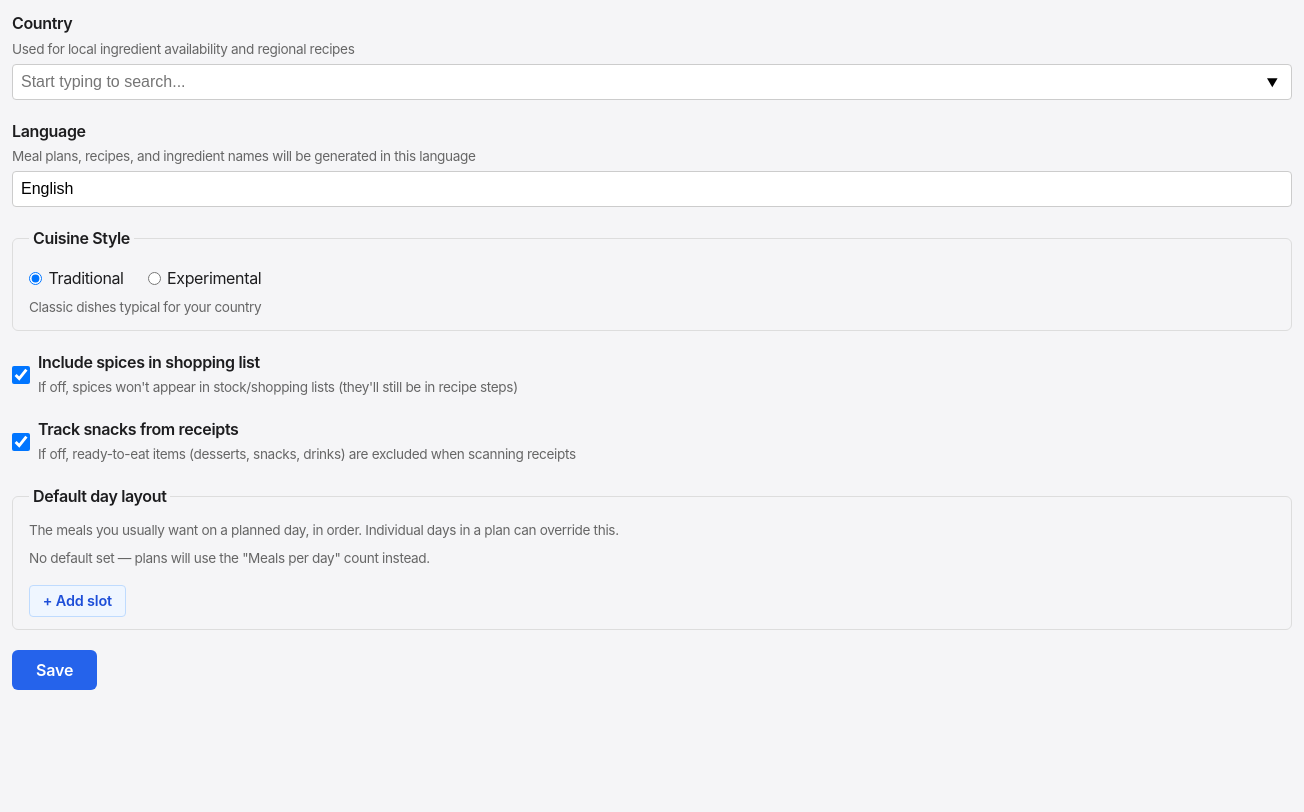
Test case: PreferencesForm › Tab canonicalizes case (italy → Italy)
Click the field with placeholder "Start typing to search...". click: click(652, 82)
box: [12, 64, 1292, 100]
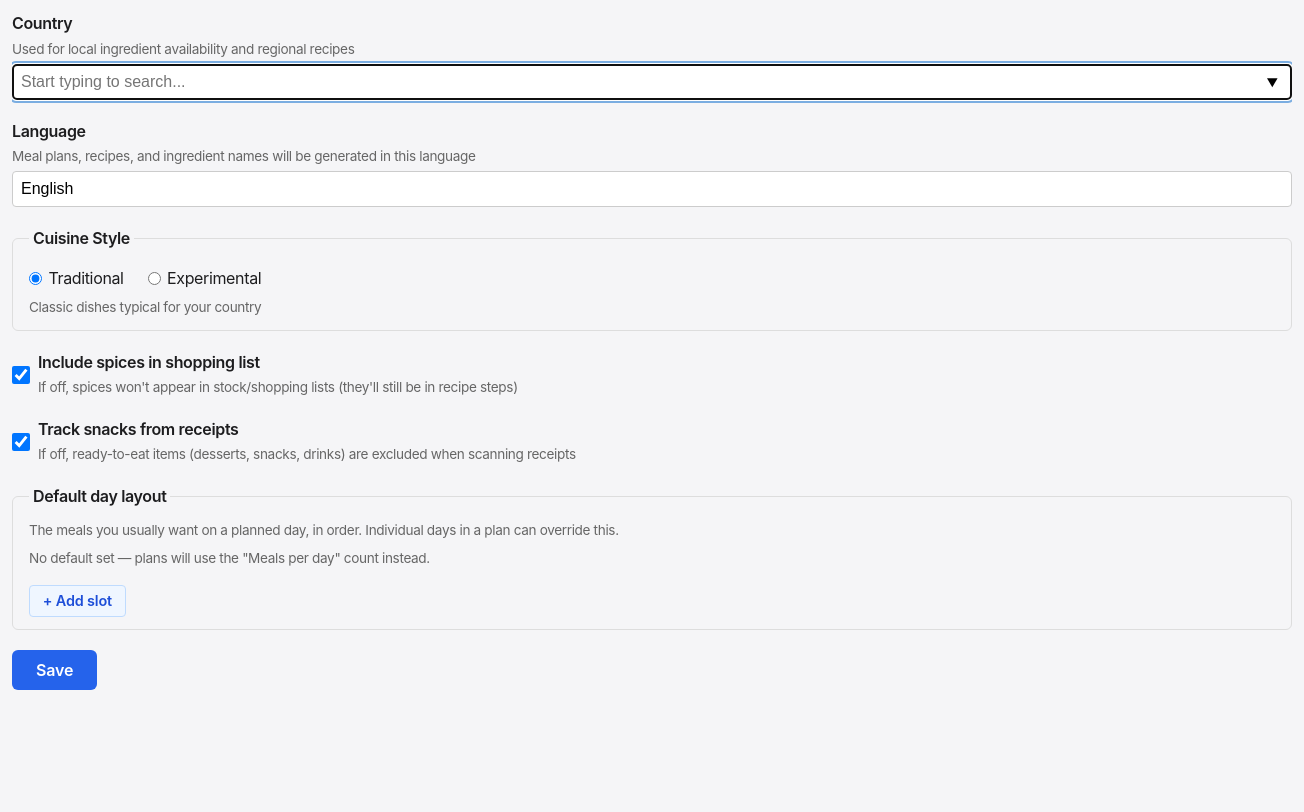
Type keys "italy"
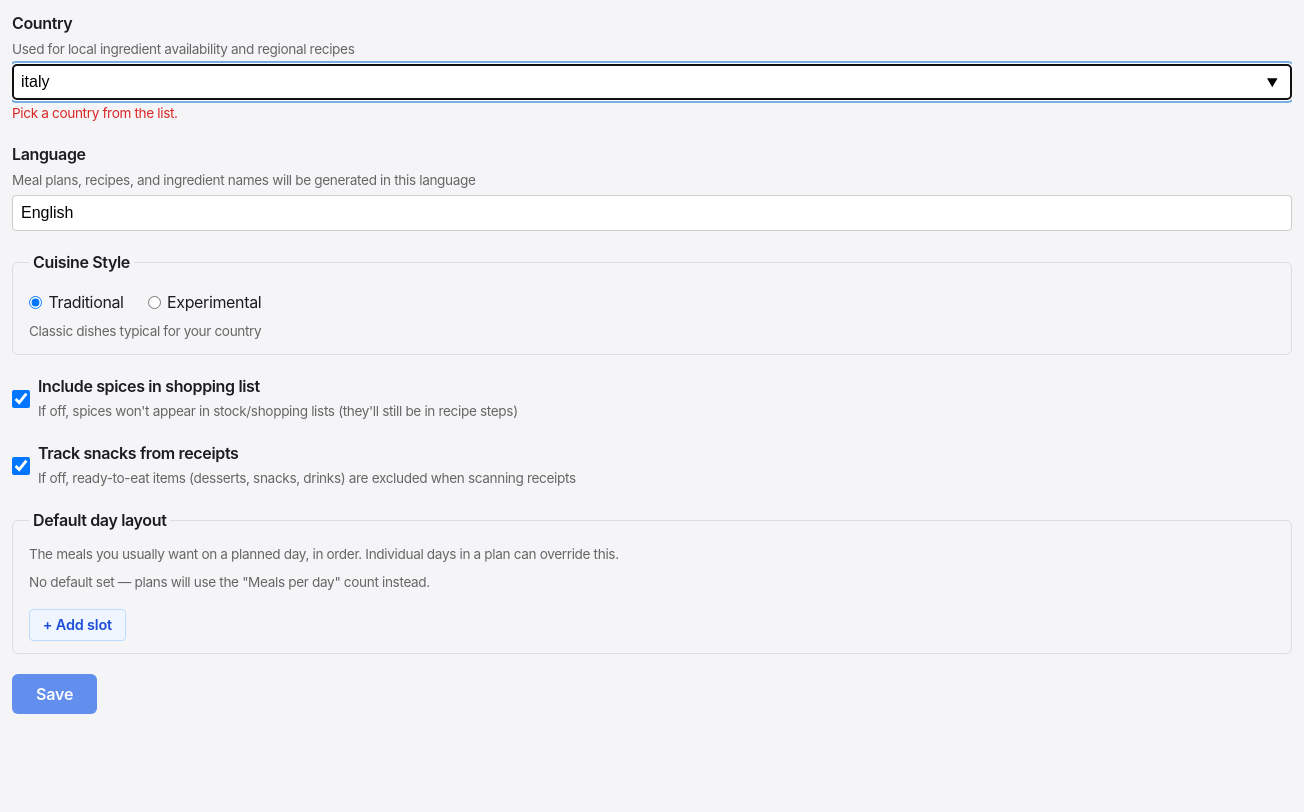
Press Tab
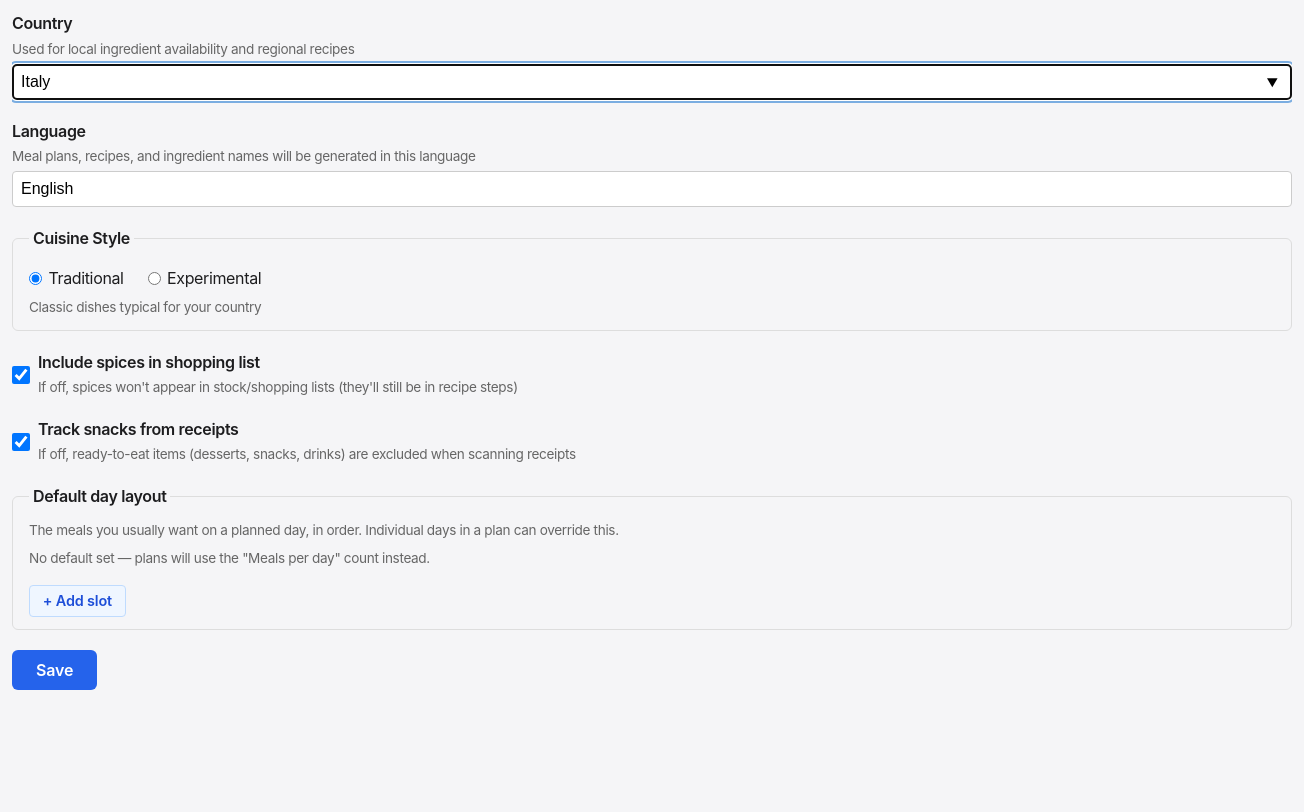
Expected: the field with placeholder "Start typing to search..." holds "Italy", [12, 64, 1292, 100]
